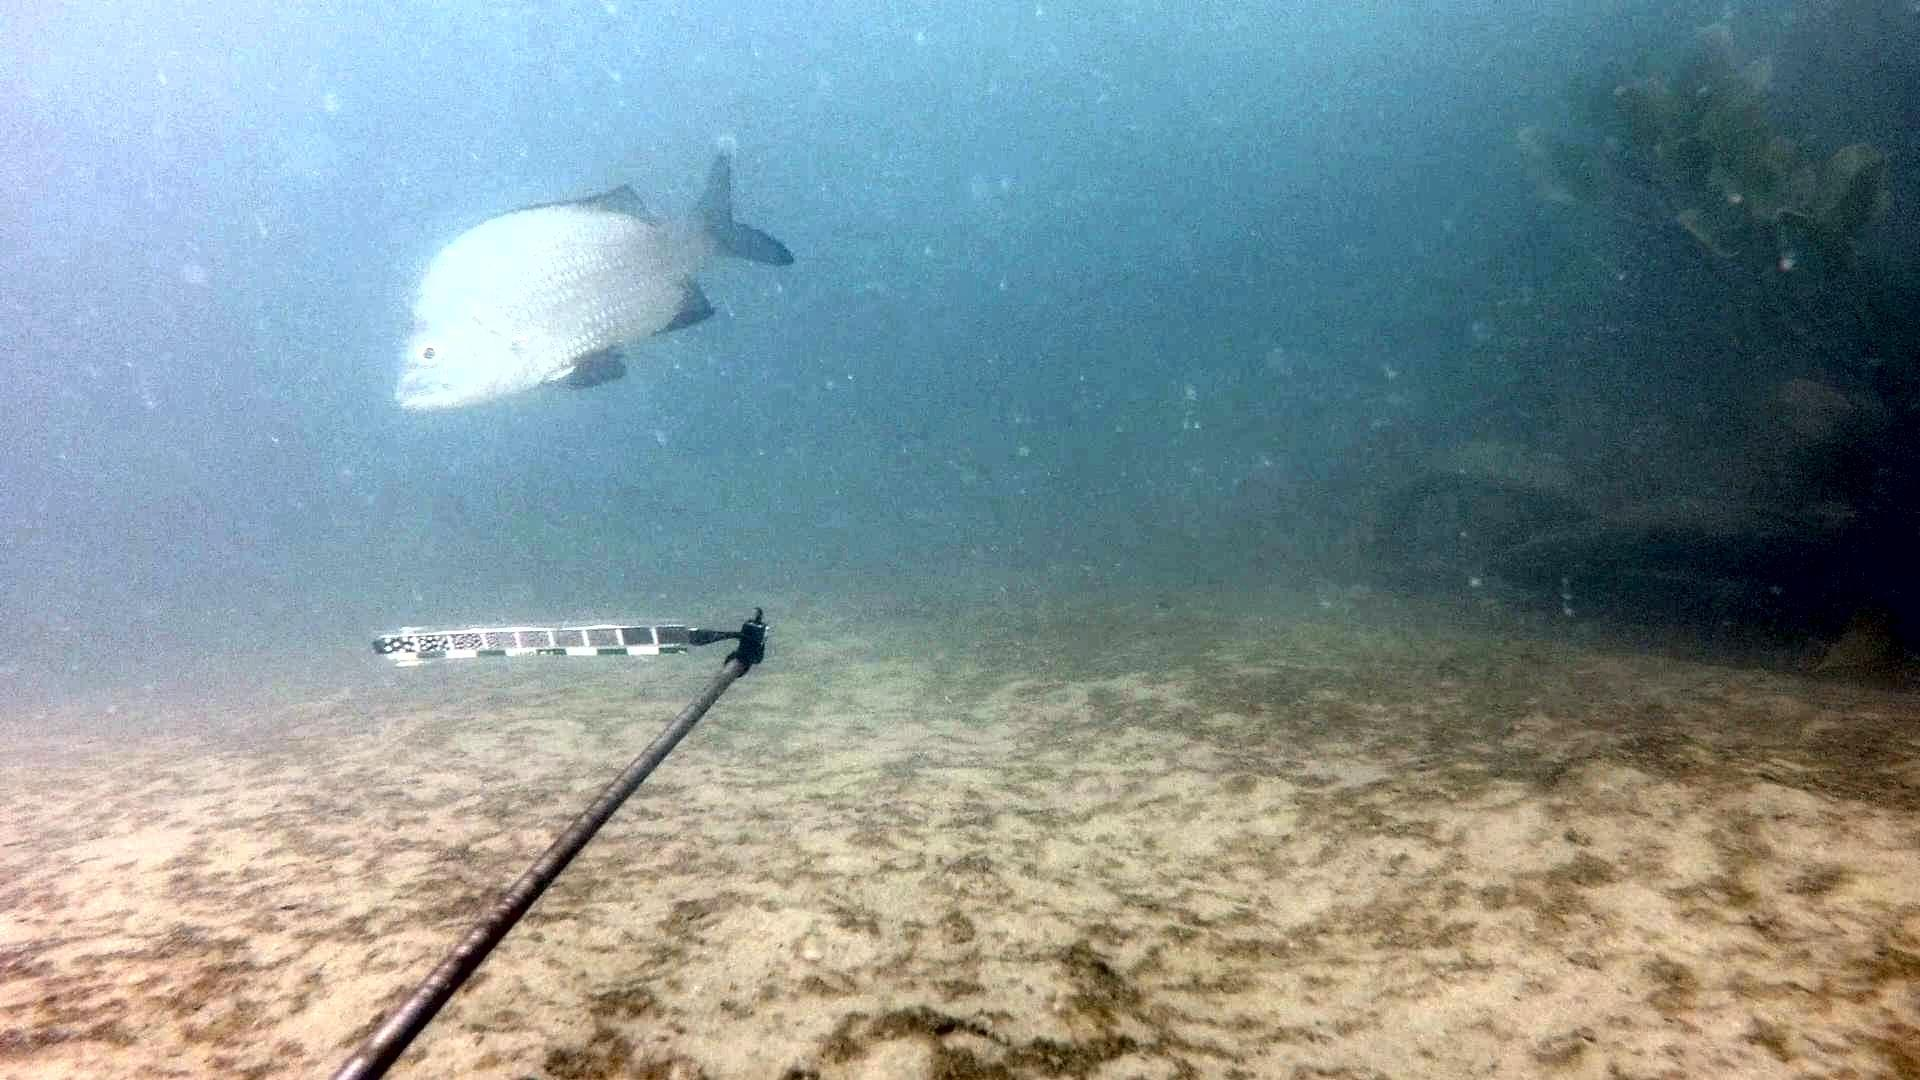acanthopagrus palmaris: (382, 131, 798, 435)
